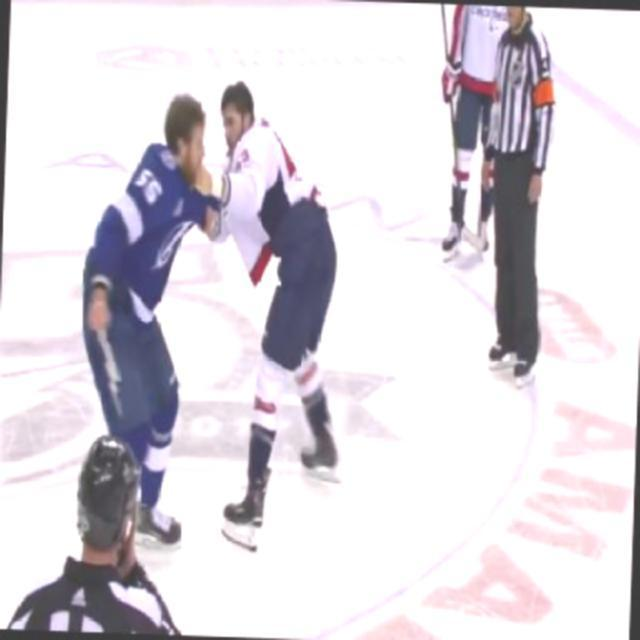fight: (74, 80, 358, 526)
non-fight: (473, 6, 562, 392)
